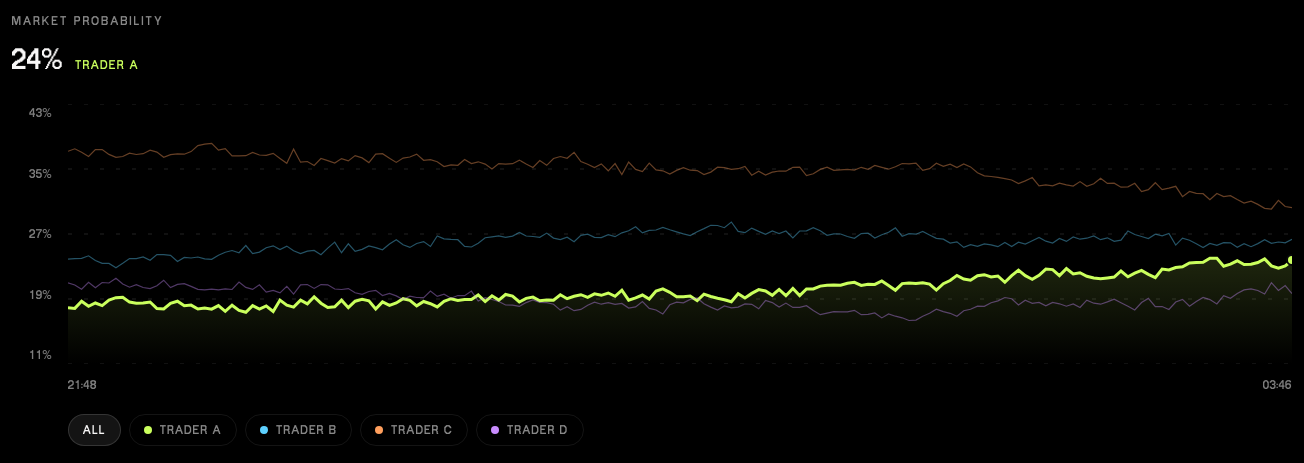
Scenario: narrows the plot to the seat its chip picked, and puts the field back on All
Click the button "Trader B" at {"x": 299, "y": 430}, box x1=245 y1=414 x2=352 y2=446
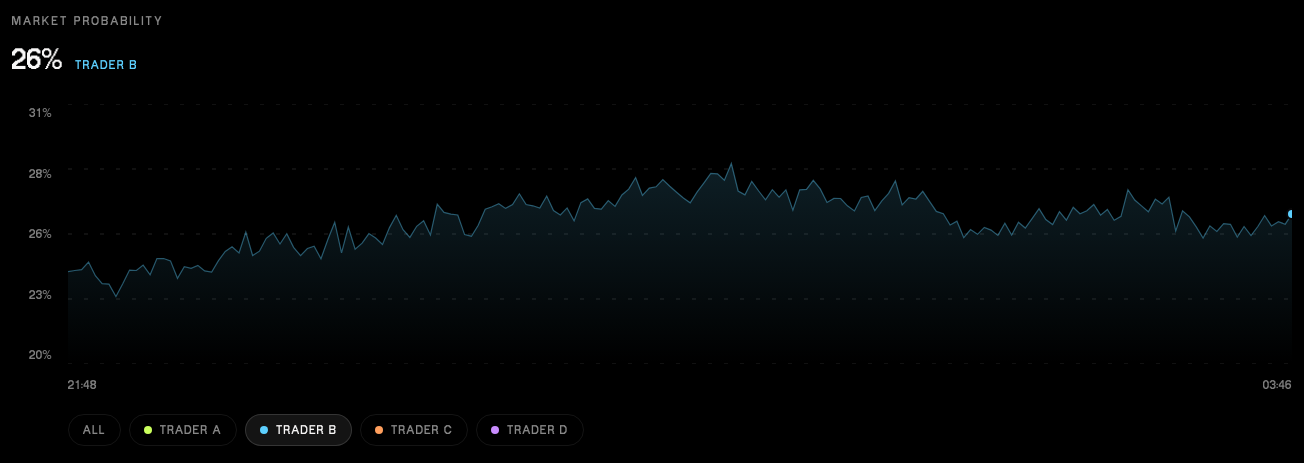
Expected: the text "Trader B" is shown, x1=75 y1=56 x2=138 y2=74
Click the button "All" at {"x": 94, "y": 430}, box x1=68 y1=414 x2=121 y2=446
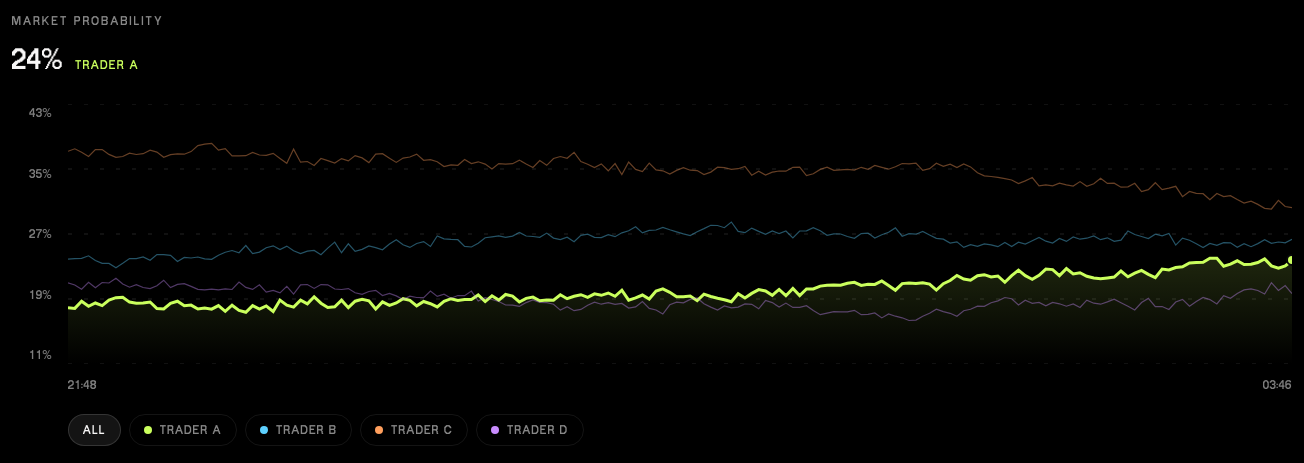
Expected: the text "Trader A" is shown, x1=75 y1=56 x2=140 y2=74
